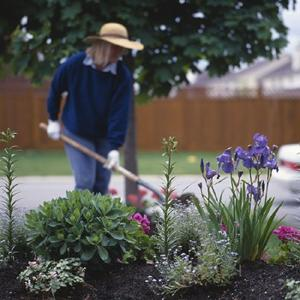person: (45, 22, 134, 195)
